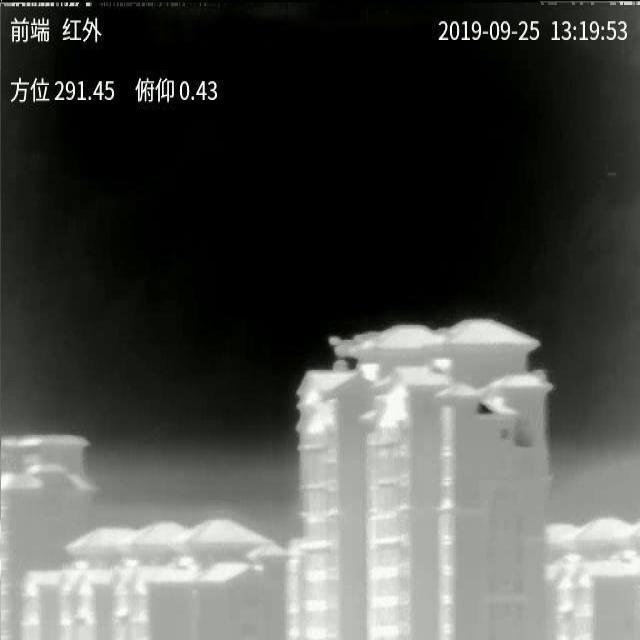drone: (328, 332, 385, 380)
